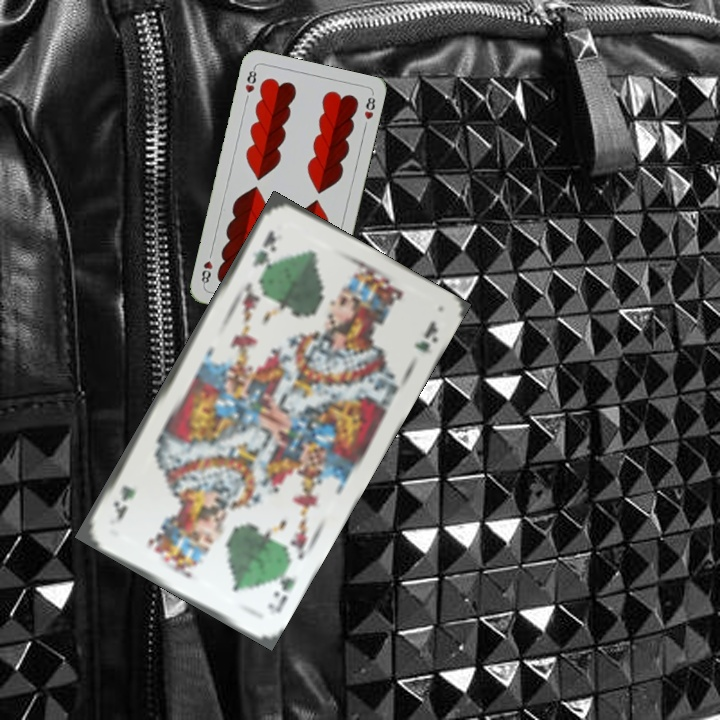GK: (248, 226, 279, 279), (263, 571, 299, 616)
H8: (241, 64, 259, 96)
